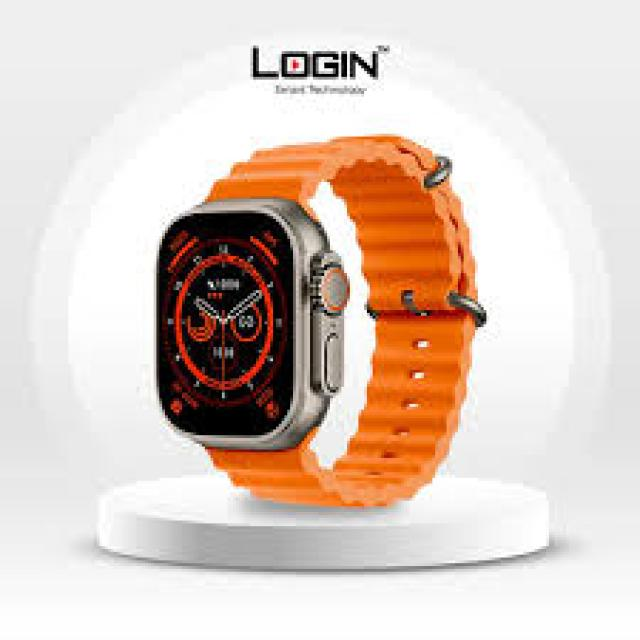objects: (153, 137, 484, 509)
